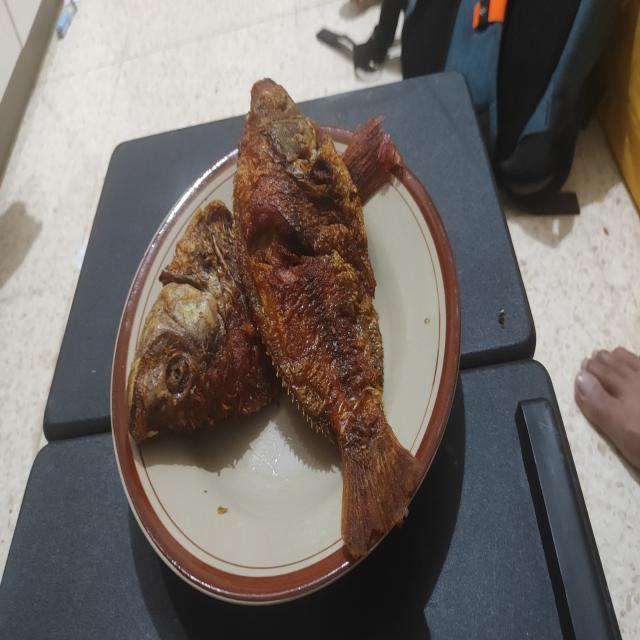ikan_mujair: (125, 118, 402, 447), (232, 79, 420, 558)
